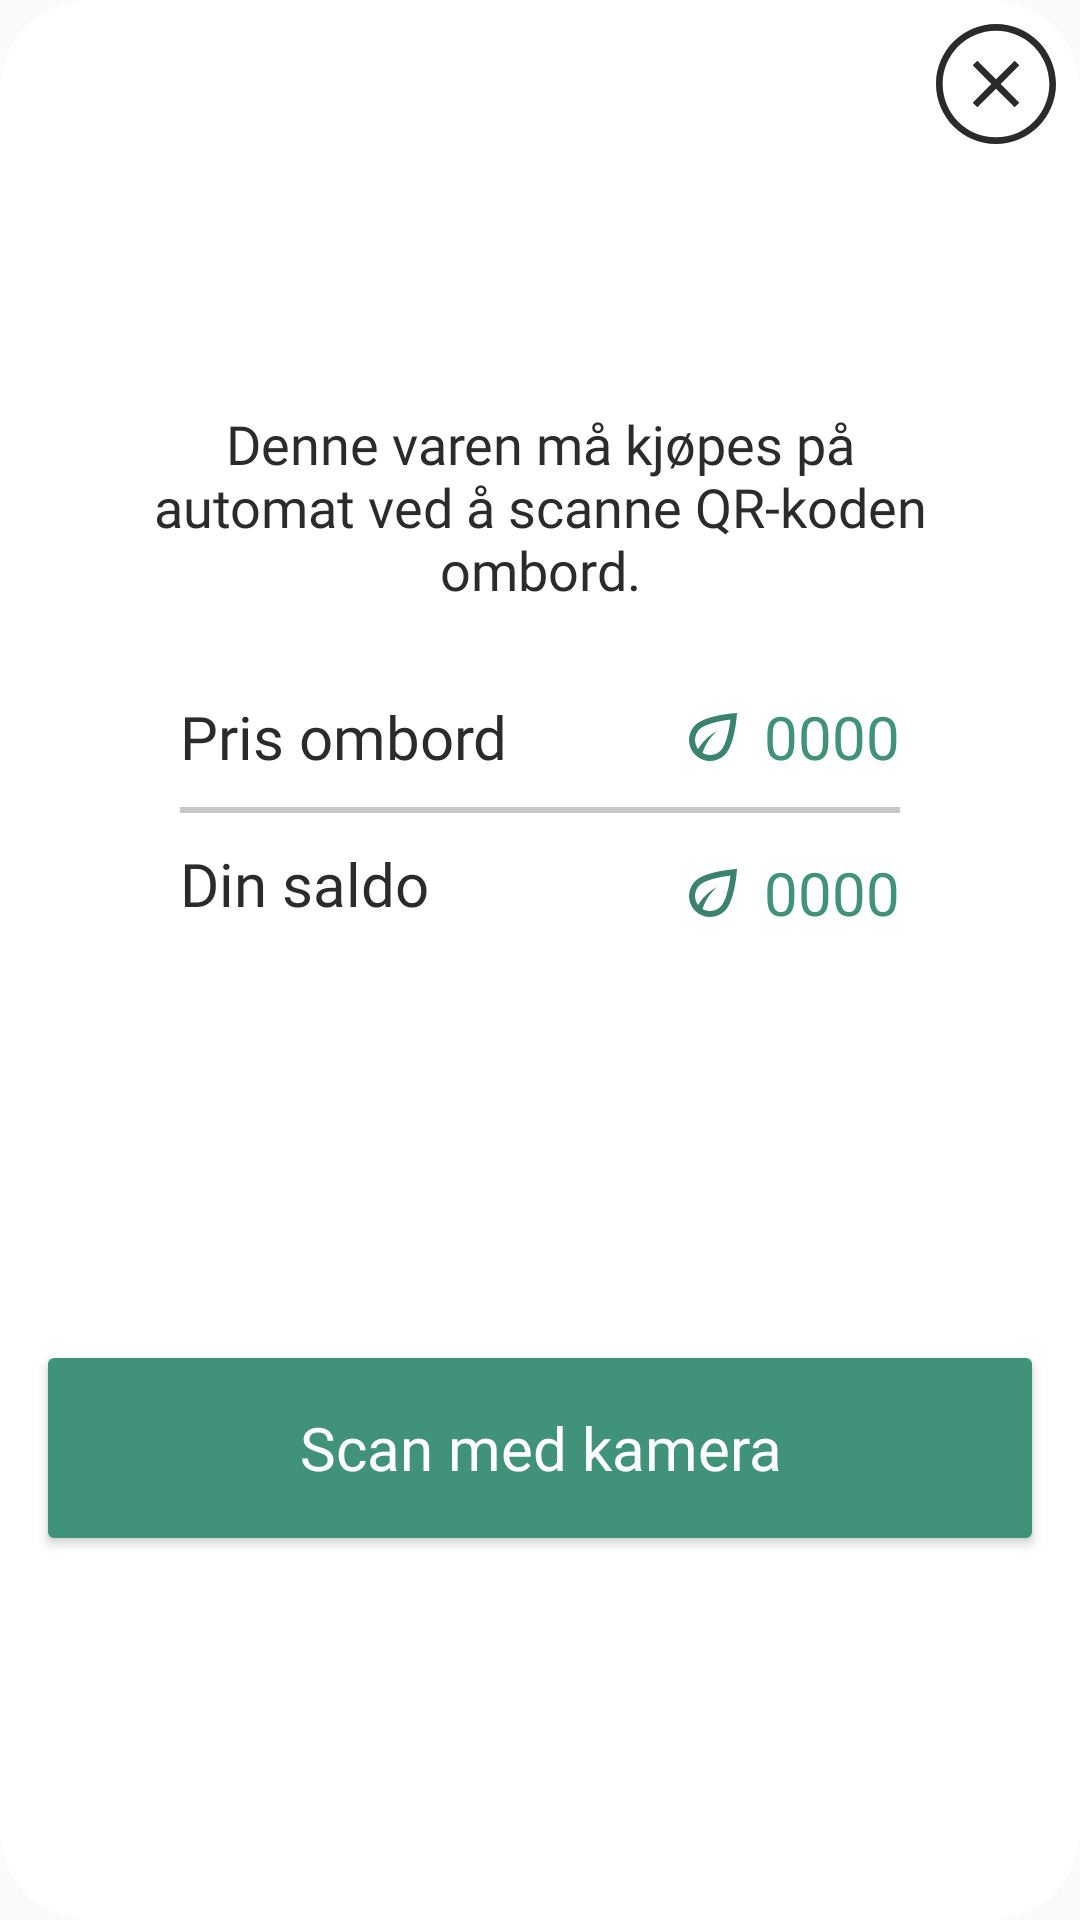

Icons on this 1080px x 1920px Android screen, each with its box as bbox=[x1, y1, x2, y2]:
close marker: bbox=[936, 24, 1056, 144]
leafe image: bbox=[689, 713, 737, 761], bbox=[689, 869, 737, 917]
